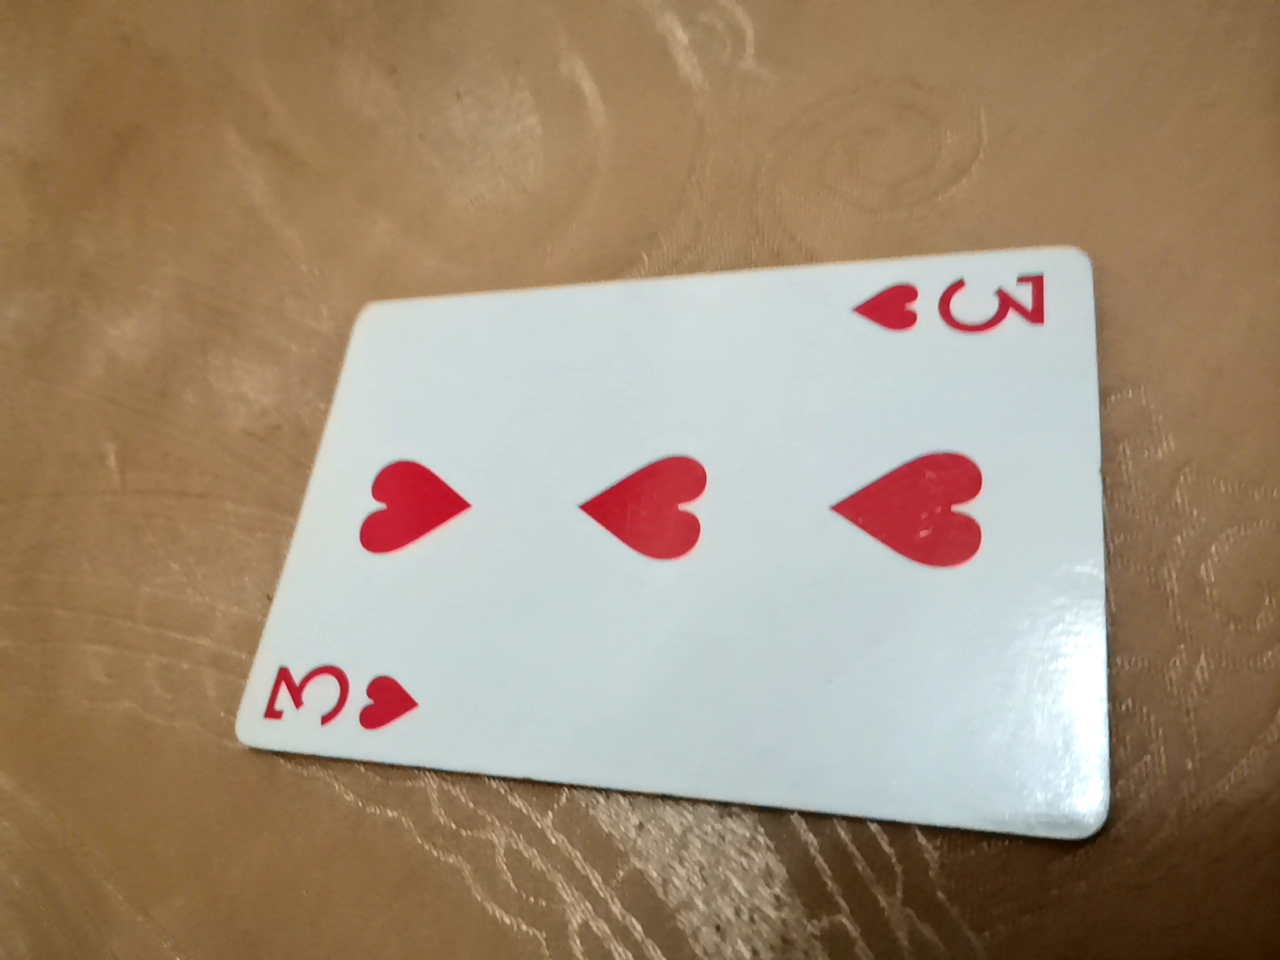hx 3: (203, 292, 1089, 907)
